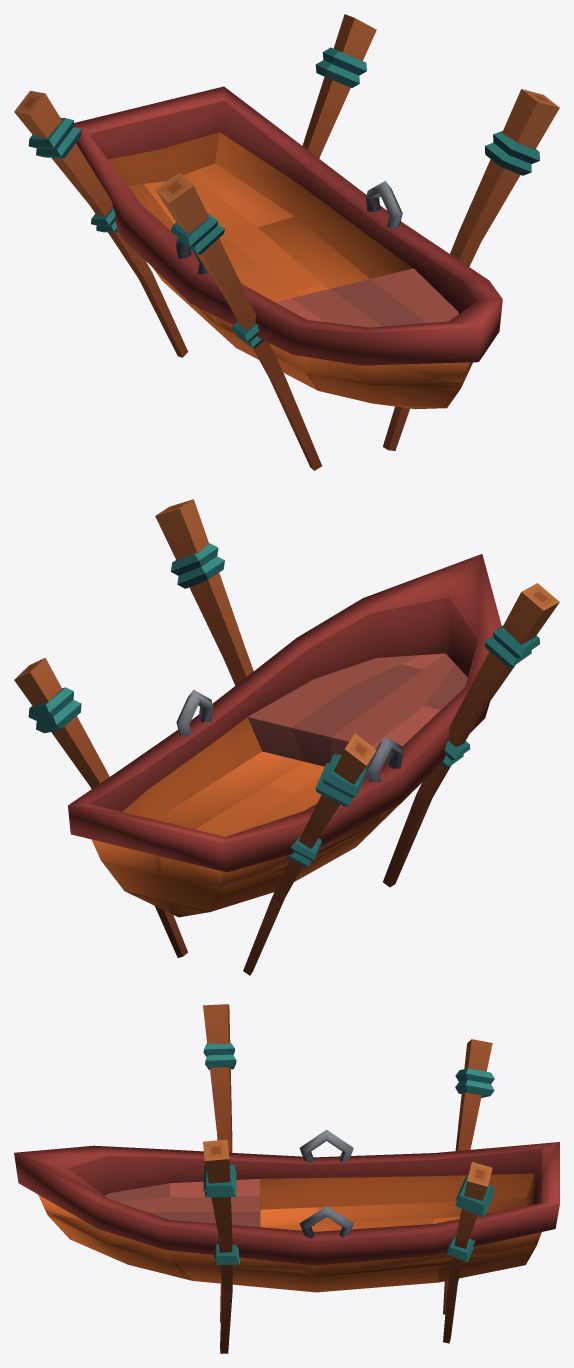
File: boat3.glb
3 views of the same model, one above another, from view 1: azimuth 30°, elevation 25°; view 2: azimuth 150°, elevation 25°; view 3: azimuth 270°, elevation 25° (orthographic). The views are drawn at different scales.
Parts seen in each view (by area): view 1: boat3; view 2: boat3; view 3: boat3.
Part boxes in pixels (bbox=[...]): boat3: bbox=[14, 14, 559, 470]; boat3: bbox=[14, 499, 559, 975]; boat3: bbox=[14, 1004, 559, 1353].
Bounding box in the file's own units: 1.76 × 1.41 × 2.62.
1 material, 1 textured.
